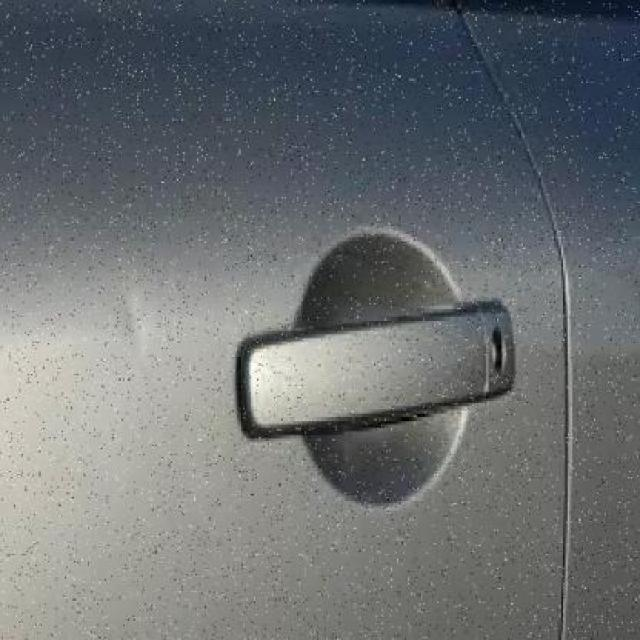doorouter-dent: (0, 17, 571, 637)
